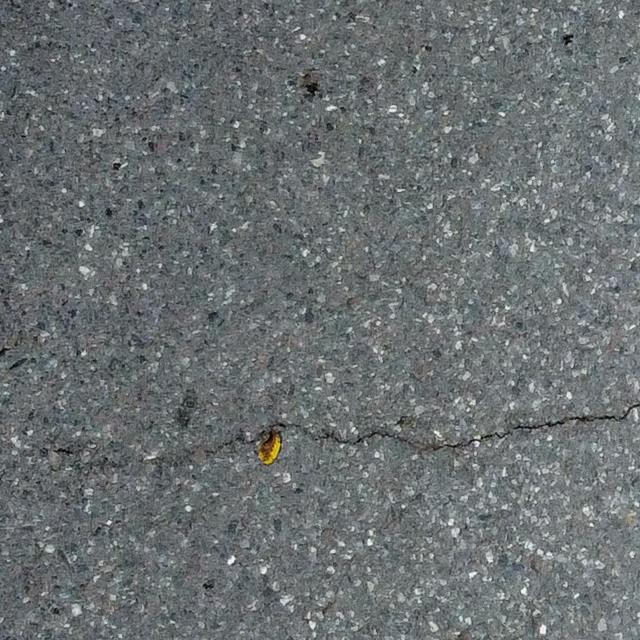TransverseCrack: (212, 404, 640, 454)
